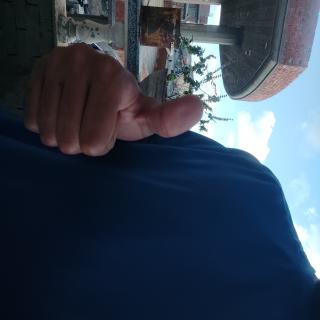ALIF: (29, 143, 130, 320)
